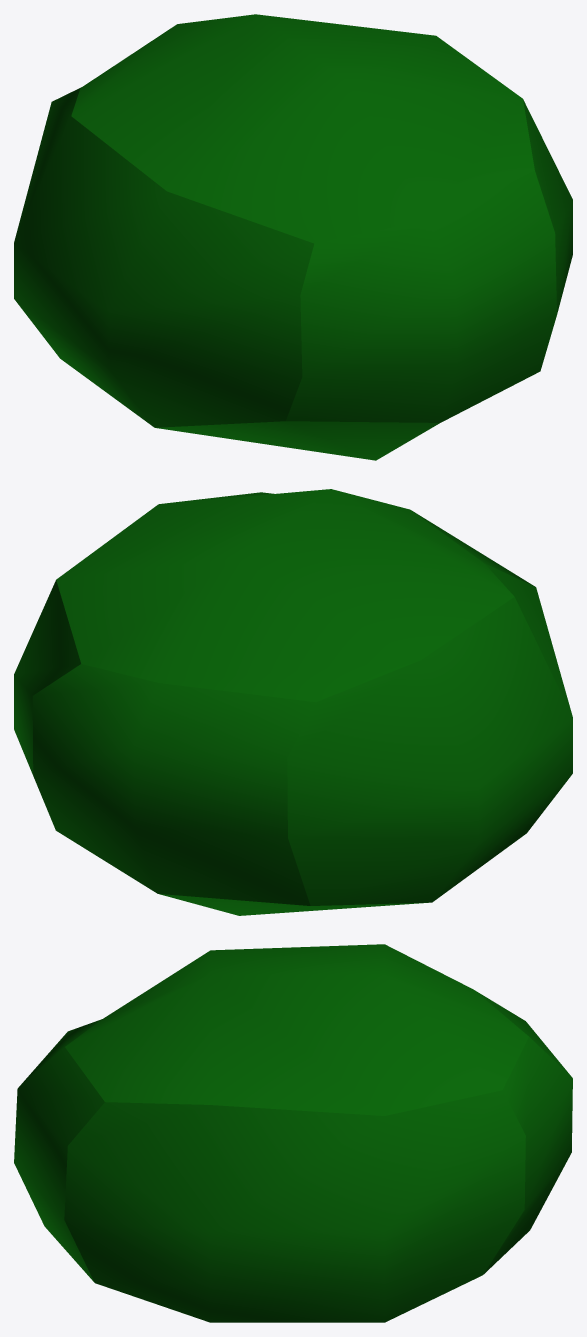
Rendered from Bush 2.FBX.
3 renders of one model, top to bottom at view 1: azimuth 30°, elevation 25°; view 2: azimuth 150°, elevation 25°; view 3: azimuth 270°, elevation 25°, orthographic. The views are drawn at different scales.
Visible parts, largest first — view 1: Box001; view 2: Box001; view 3: Box001.
Part boxes in pixels (left/top/right/bottom): Box001: left=14, top=14, right=572, bottom=460; Box001: left=14, top=489, right=572, bottom=915; Box001: left=14, top=944, right=572, bottom=1322.
Size of the model in its own units: 46.3 by 34.26 by 52.44.
